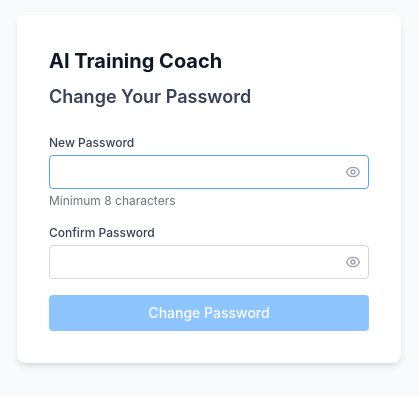
Scenario: ChangePasswordPage validation › shows "Password must be at least 8 characters" when newPassword is non-empty and shorter than 8 chars
Type "short" into the password field labelled "New Password". click: (209, 172)
box: [49, 155, 369, 189]
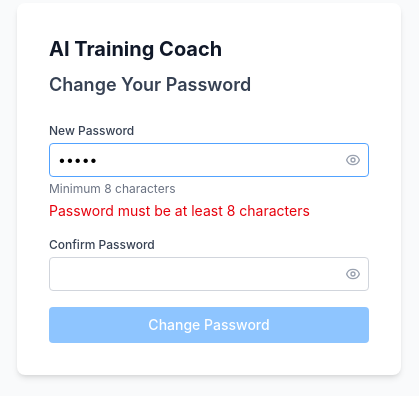
expect the text "Password must be at least 8 characters" is shown: met, box [49, 202, 310, 219]
